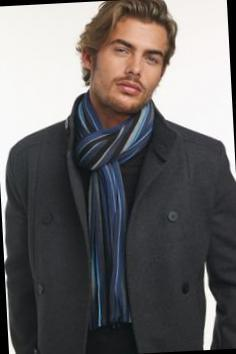Sober: (100, 16, 166, 106)
